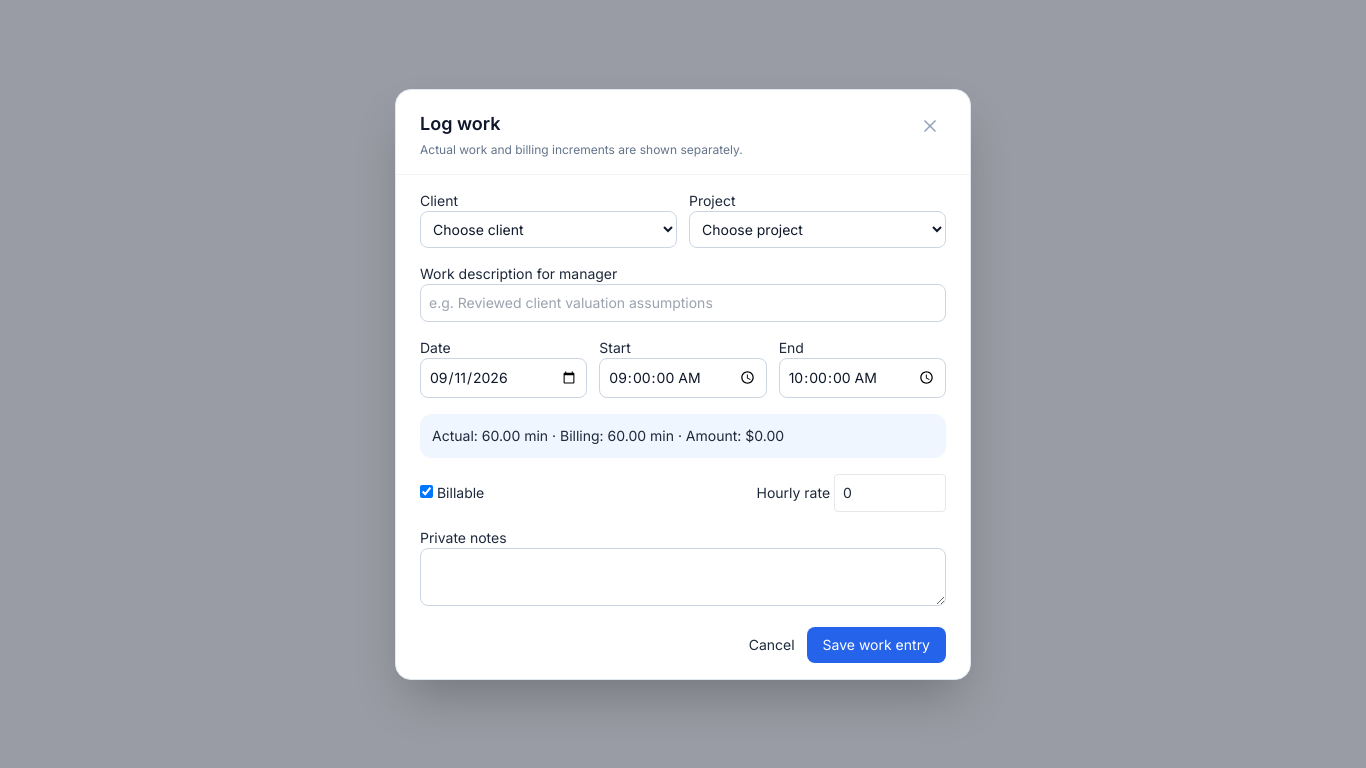
Test: Consultant UI workflows › keeps editor open after persistence rejection
Select "Firm" in the dropdown labelled "Client" at (548, 229), box [420,210,677,248]
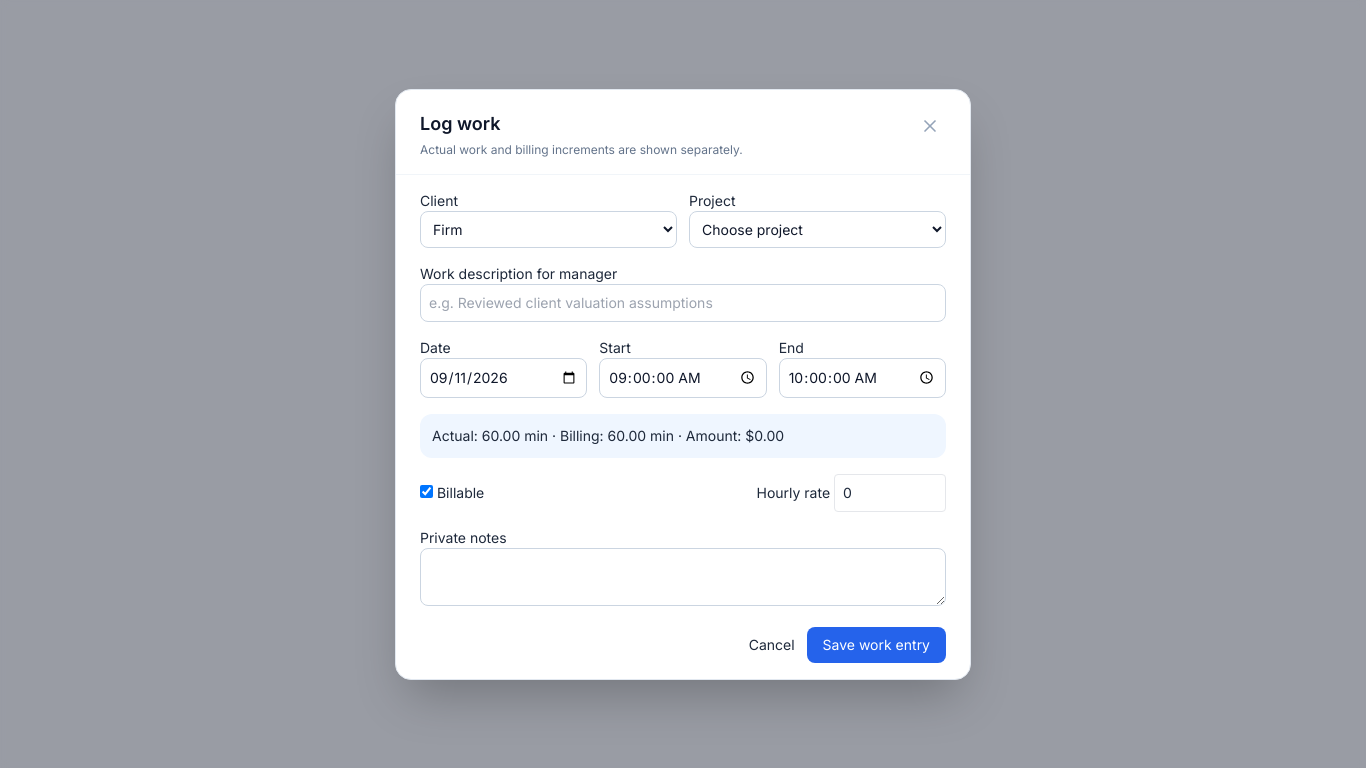
Select "Internal" in the dropdown labelled "Project" at (818, 229), box [689,210,946,248]
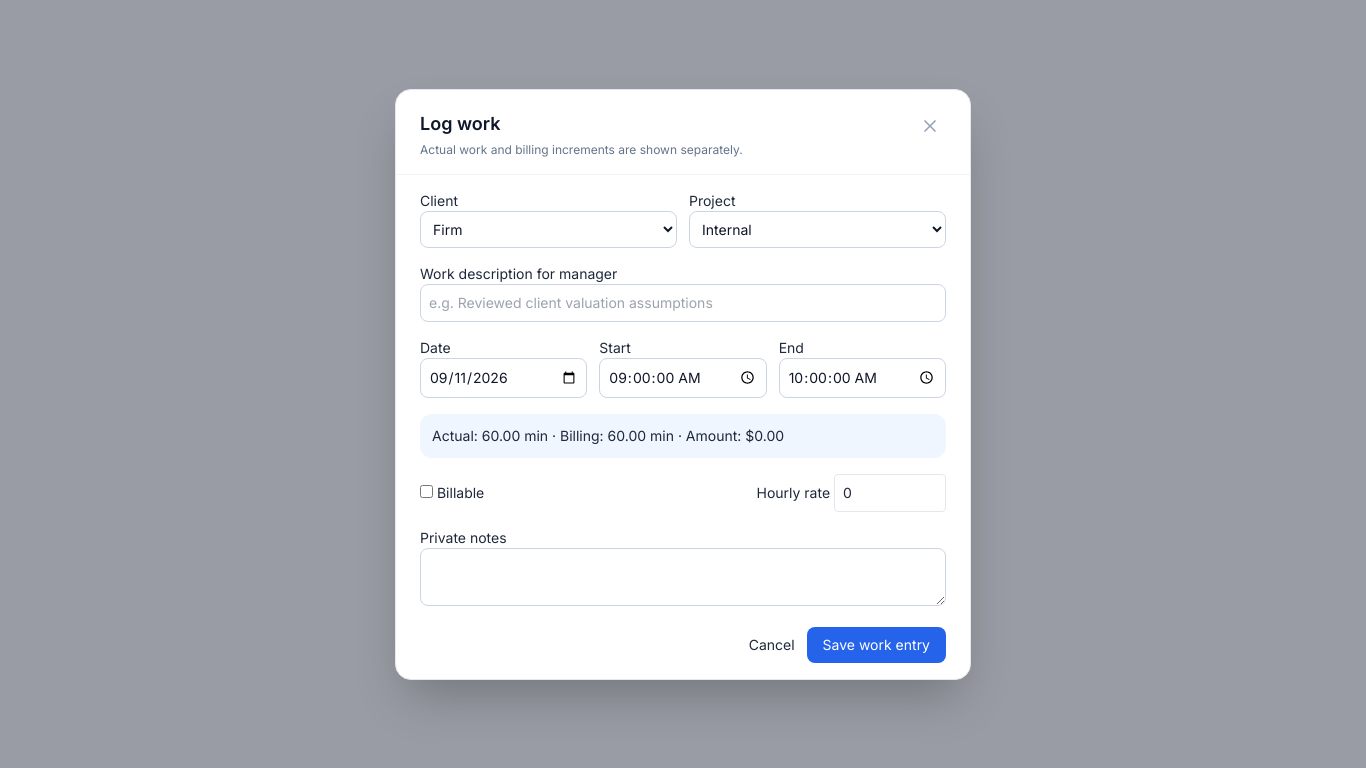
Type "Work" into the field labelled "Work description for manager" at (683, 302), box [420,284,946,322]
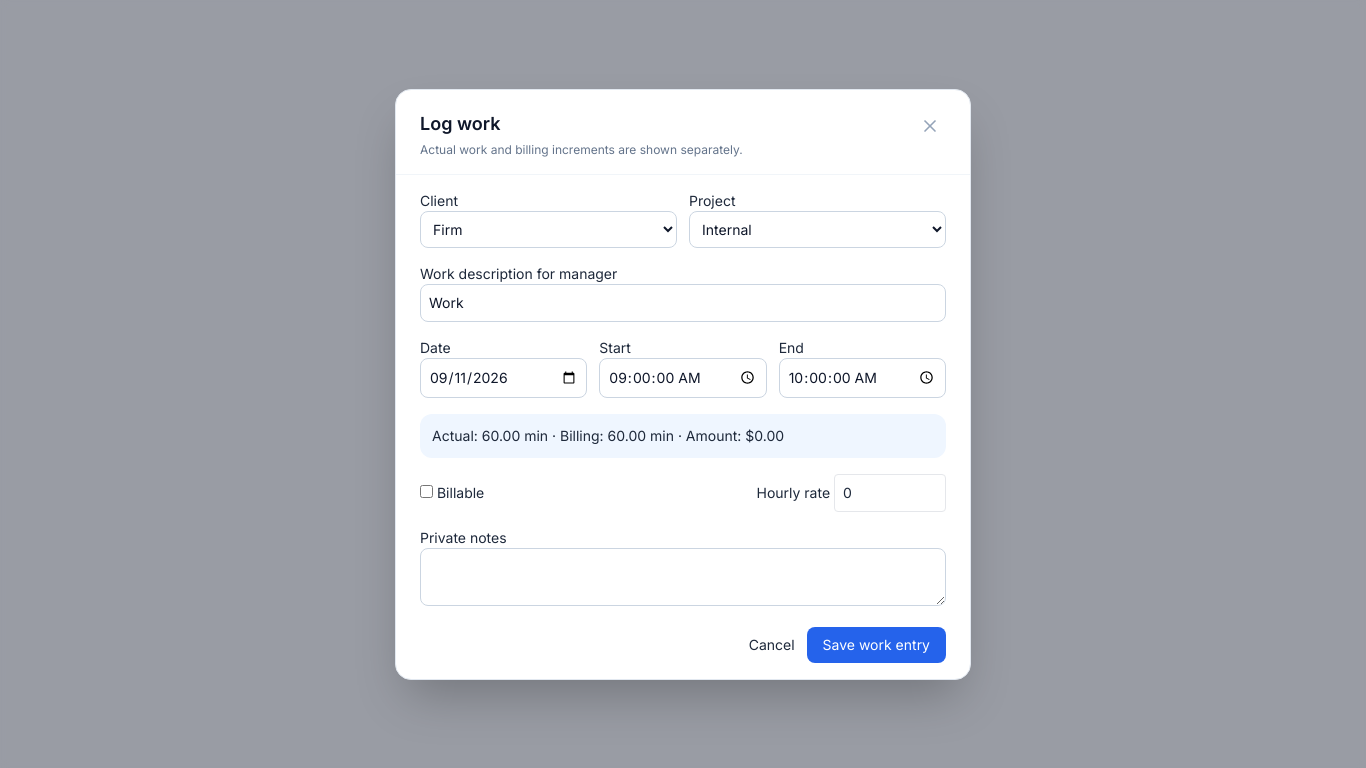
Click the button "Save work entry" at (876, 644), box [807,626,946,662]
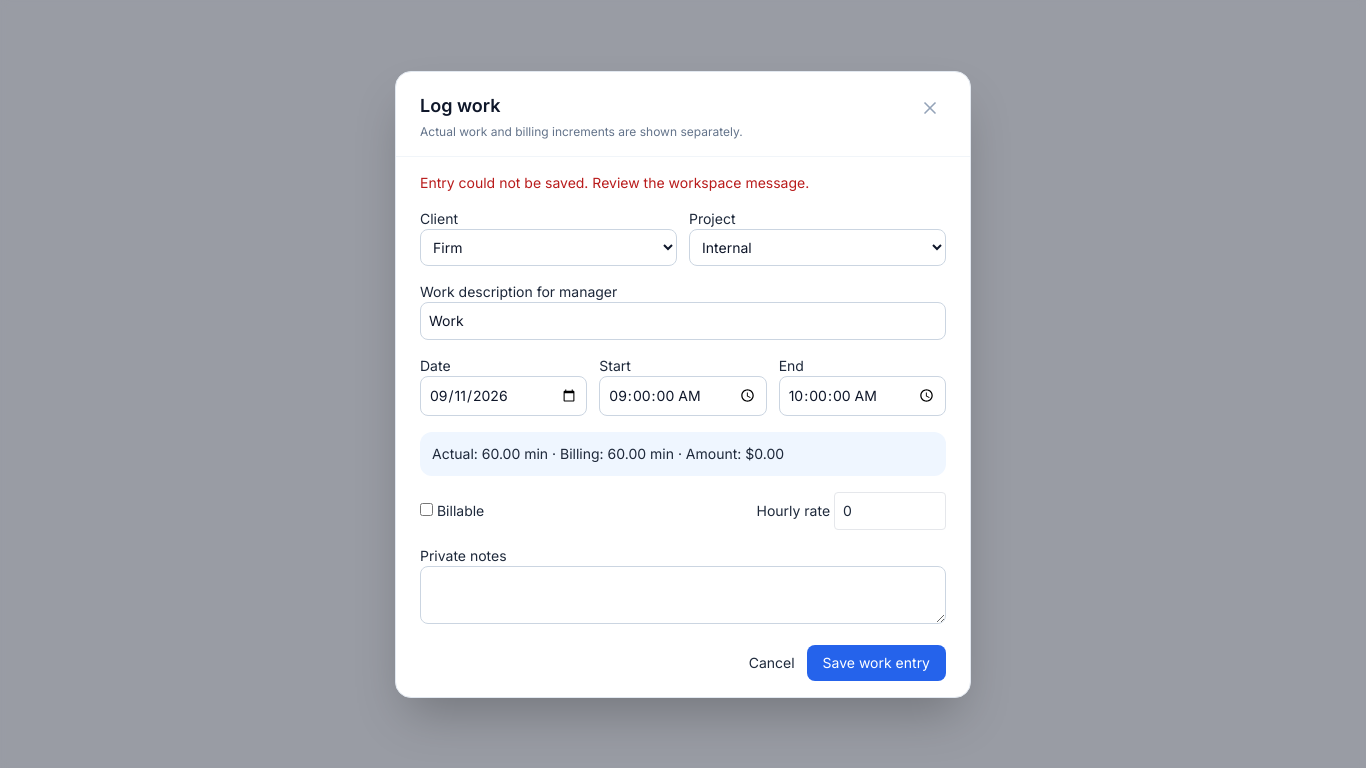
Result: the message "Entry could not be saved. Review the workspace message." is shown at [420,174,809,190]
